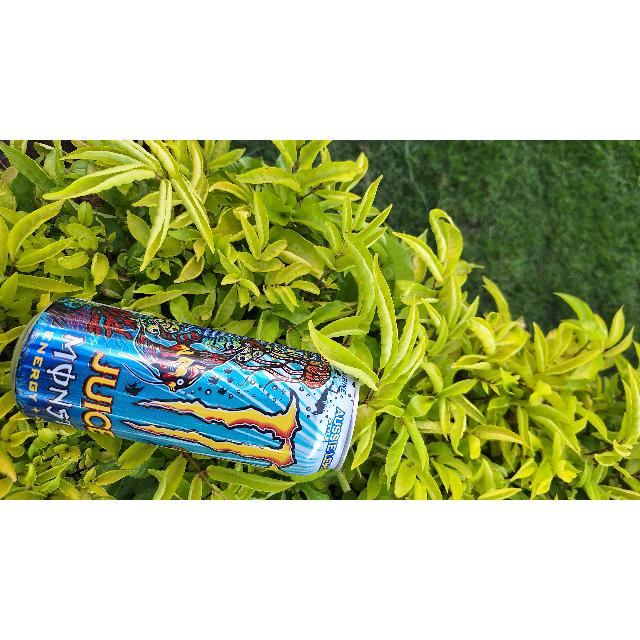Monster Aussie Lemonade: (11, 303, 359, 477)
